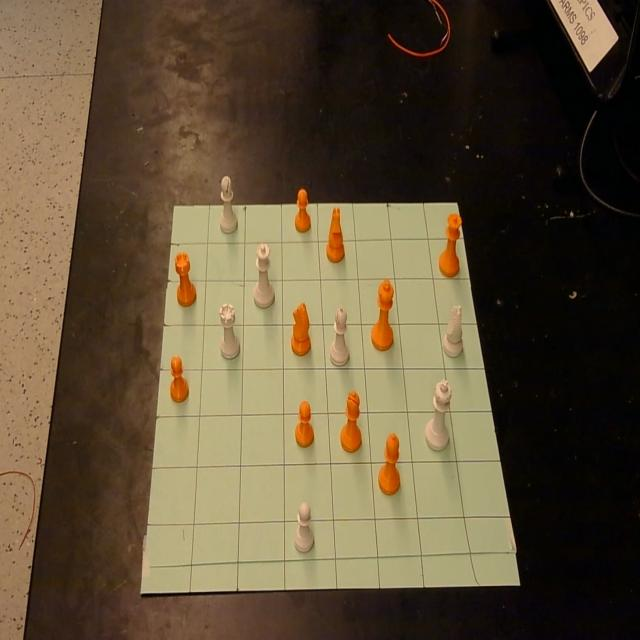orange_bishop: (378, 433, 401, 495), (340, 389, 362, 452)
orange_king: (371, 278, 395, 352)
orange_knight: (292, 302, 312, 356), (326, 206, 345, 262)
orange_pawn: (295, 400, 314, 448), (170, 355, 188, 403), (295, 188, 311, 232)
orange_queen: (439, 212, 462, 277)
orange_rook: (174, 250, 196, 306)
white_bishop: (330, 306, 350, 366), (220, 176, 238, 233)
white_king: (425, 379, 451, 451)
white_knight: (443, 304, 463, 358)
white_pawn: (294, 502, 314, 552)
white_queen: (253, 243, 274, 306)
white_rook: (219, 303, 240, 360)
